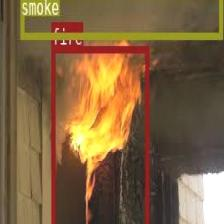fire: (51, 44, 148, 224)
smoke: (19, 0, 222, 37)
